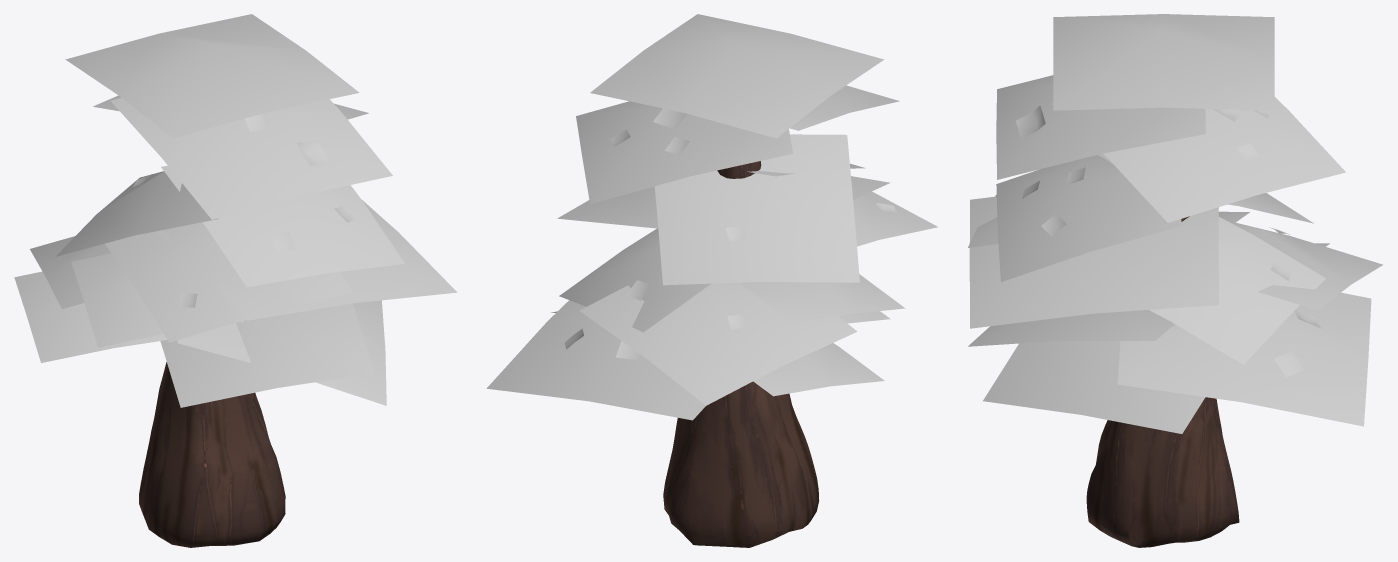
Rendered from Tree2.fbx.
3 renders of one model, left to right at view 1: azimuth 30°, elevation 25°; view 2: azimuth 150°, elevation 25°; view 3: azimuth 270°, elevation 25°, orthographic. The views are drawn at different scales.
Visible parts, largest first — view 1: Tree2; view 2: Tree2; view 3: Tree2.
Boxes of the visible parts, bbox=[...] form: Tree2: bbox=[14, 14, 457, 547]; Tree2: bbox=[486, 14, 938, 547]; Tree2: bbox=[968, 14, 1382, 547].
Size of the model in its own units: 2.95 by 3.97 by 3.07.
